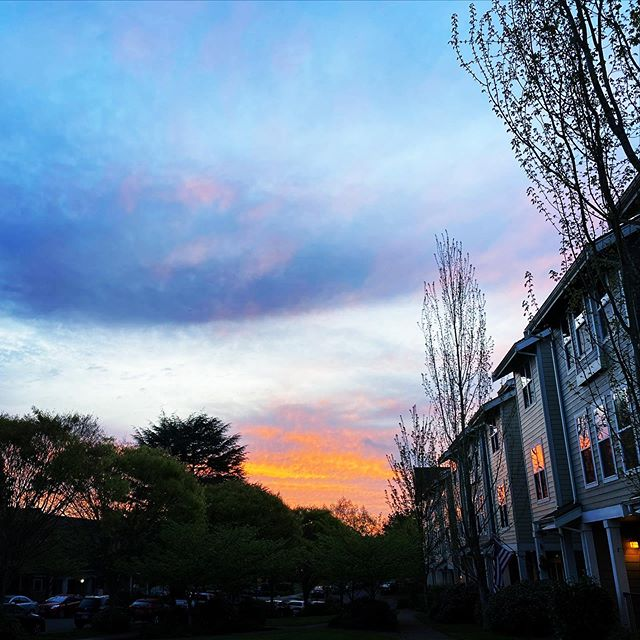building: (564, 241, 640, 640), (483, 322, 576, 589), (458, 408, 521, 589), (408, 465, 466, 588)
sky: (6, 1, 611, 407), (248, 378, 396, 512)
tree: (479, 1, 640, 363), (1, 423, 204, 640), (406, 237, 507, 451), (190, 479, 308, 620), (131, 399, 257, 491), (305, 518, 413, 613)
